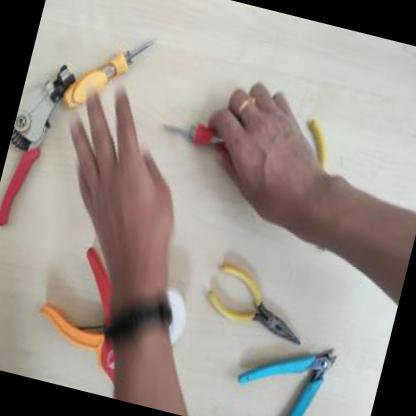Screwdriver: (55, 10, 162, 132), (157, 108, 234, 160)
